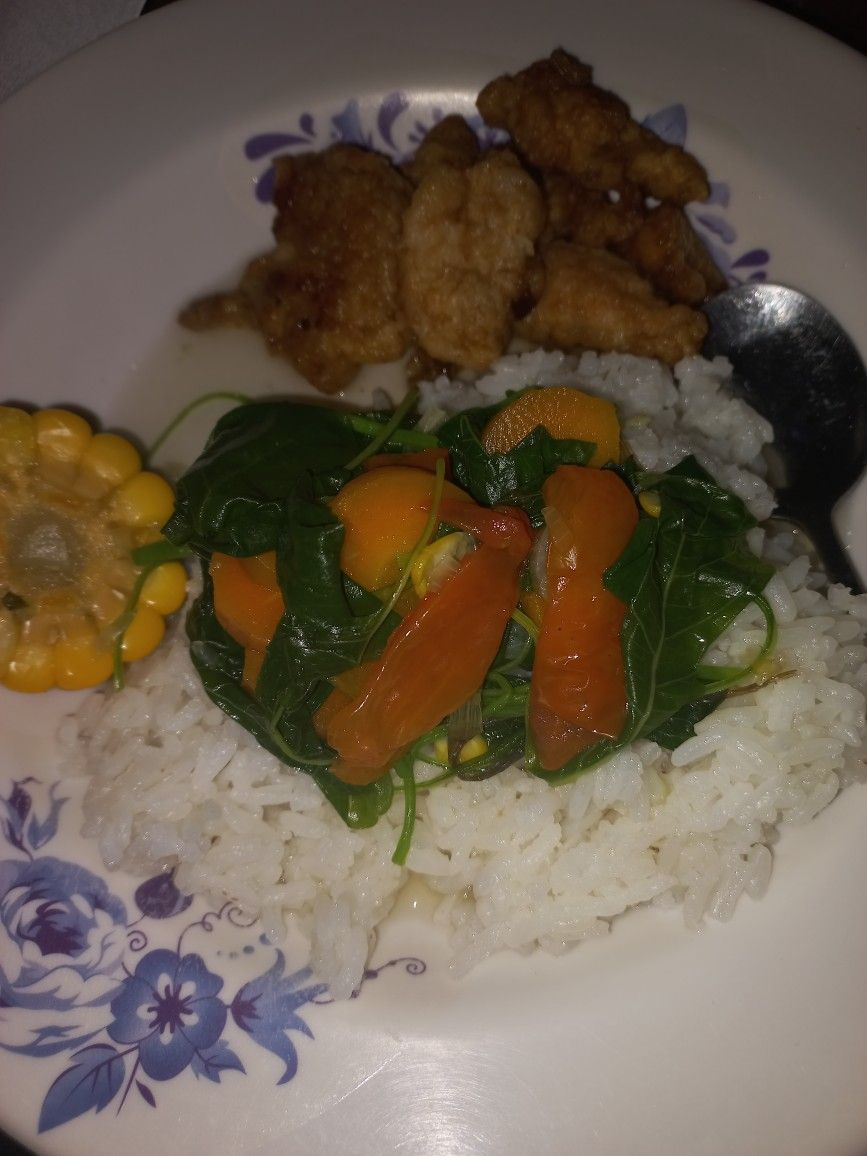buah_sayur_lainnya: (33, 458, 147, 627)
buah_sayur_vitA: (280, 471, 656, 685)
daging: (360, 224, 731, 365)
makanan_berpati: (217, 821, 662, 947)
